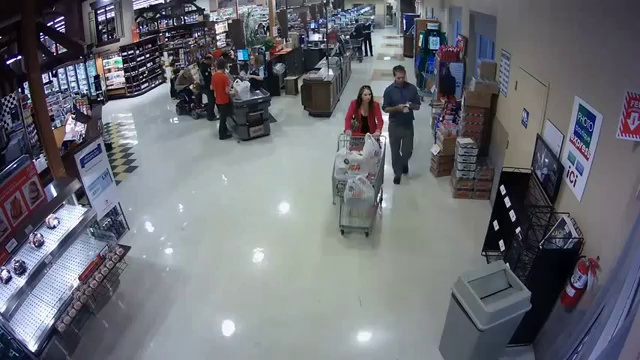face: (361, 89, 372, 103), (395, 71, 406, 84), (249, 57, 256, 65)
